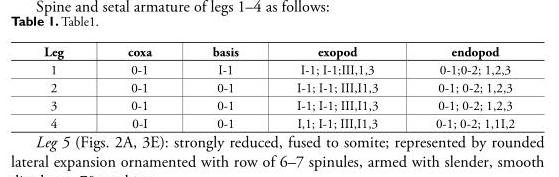table: (43, 43, 514, 131)
table column: (266, 43, 406, 131), (406, 43, 514, 131), (94, 43, 181, 131), (181, 43, 266, 131), (43, 43, 94, 131)
table column header: (43, 43, 514, 60)
table row: (43, 60, 514, 78), (43, 78, 514, 96), (43, 96, 514, 114), (43, 43, 514, 60), (43, 114, 514, 131)
